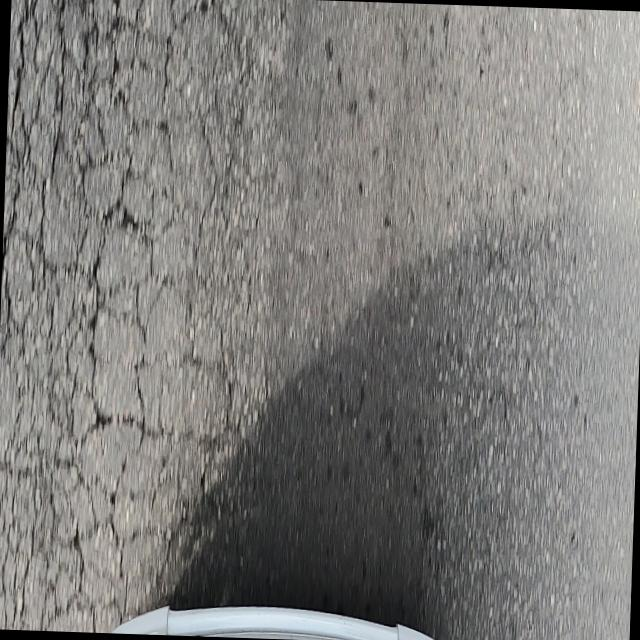Retak-Buaya: (0, 0, 246, 632)
